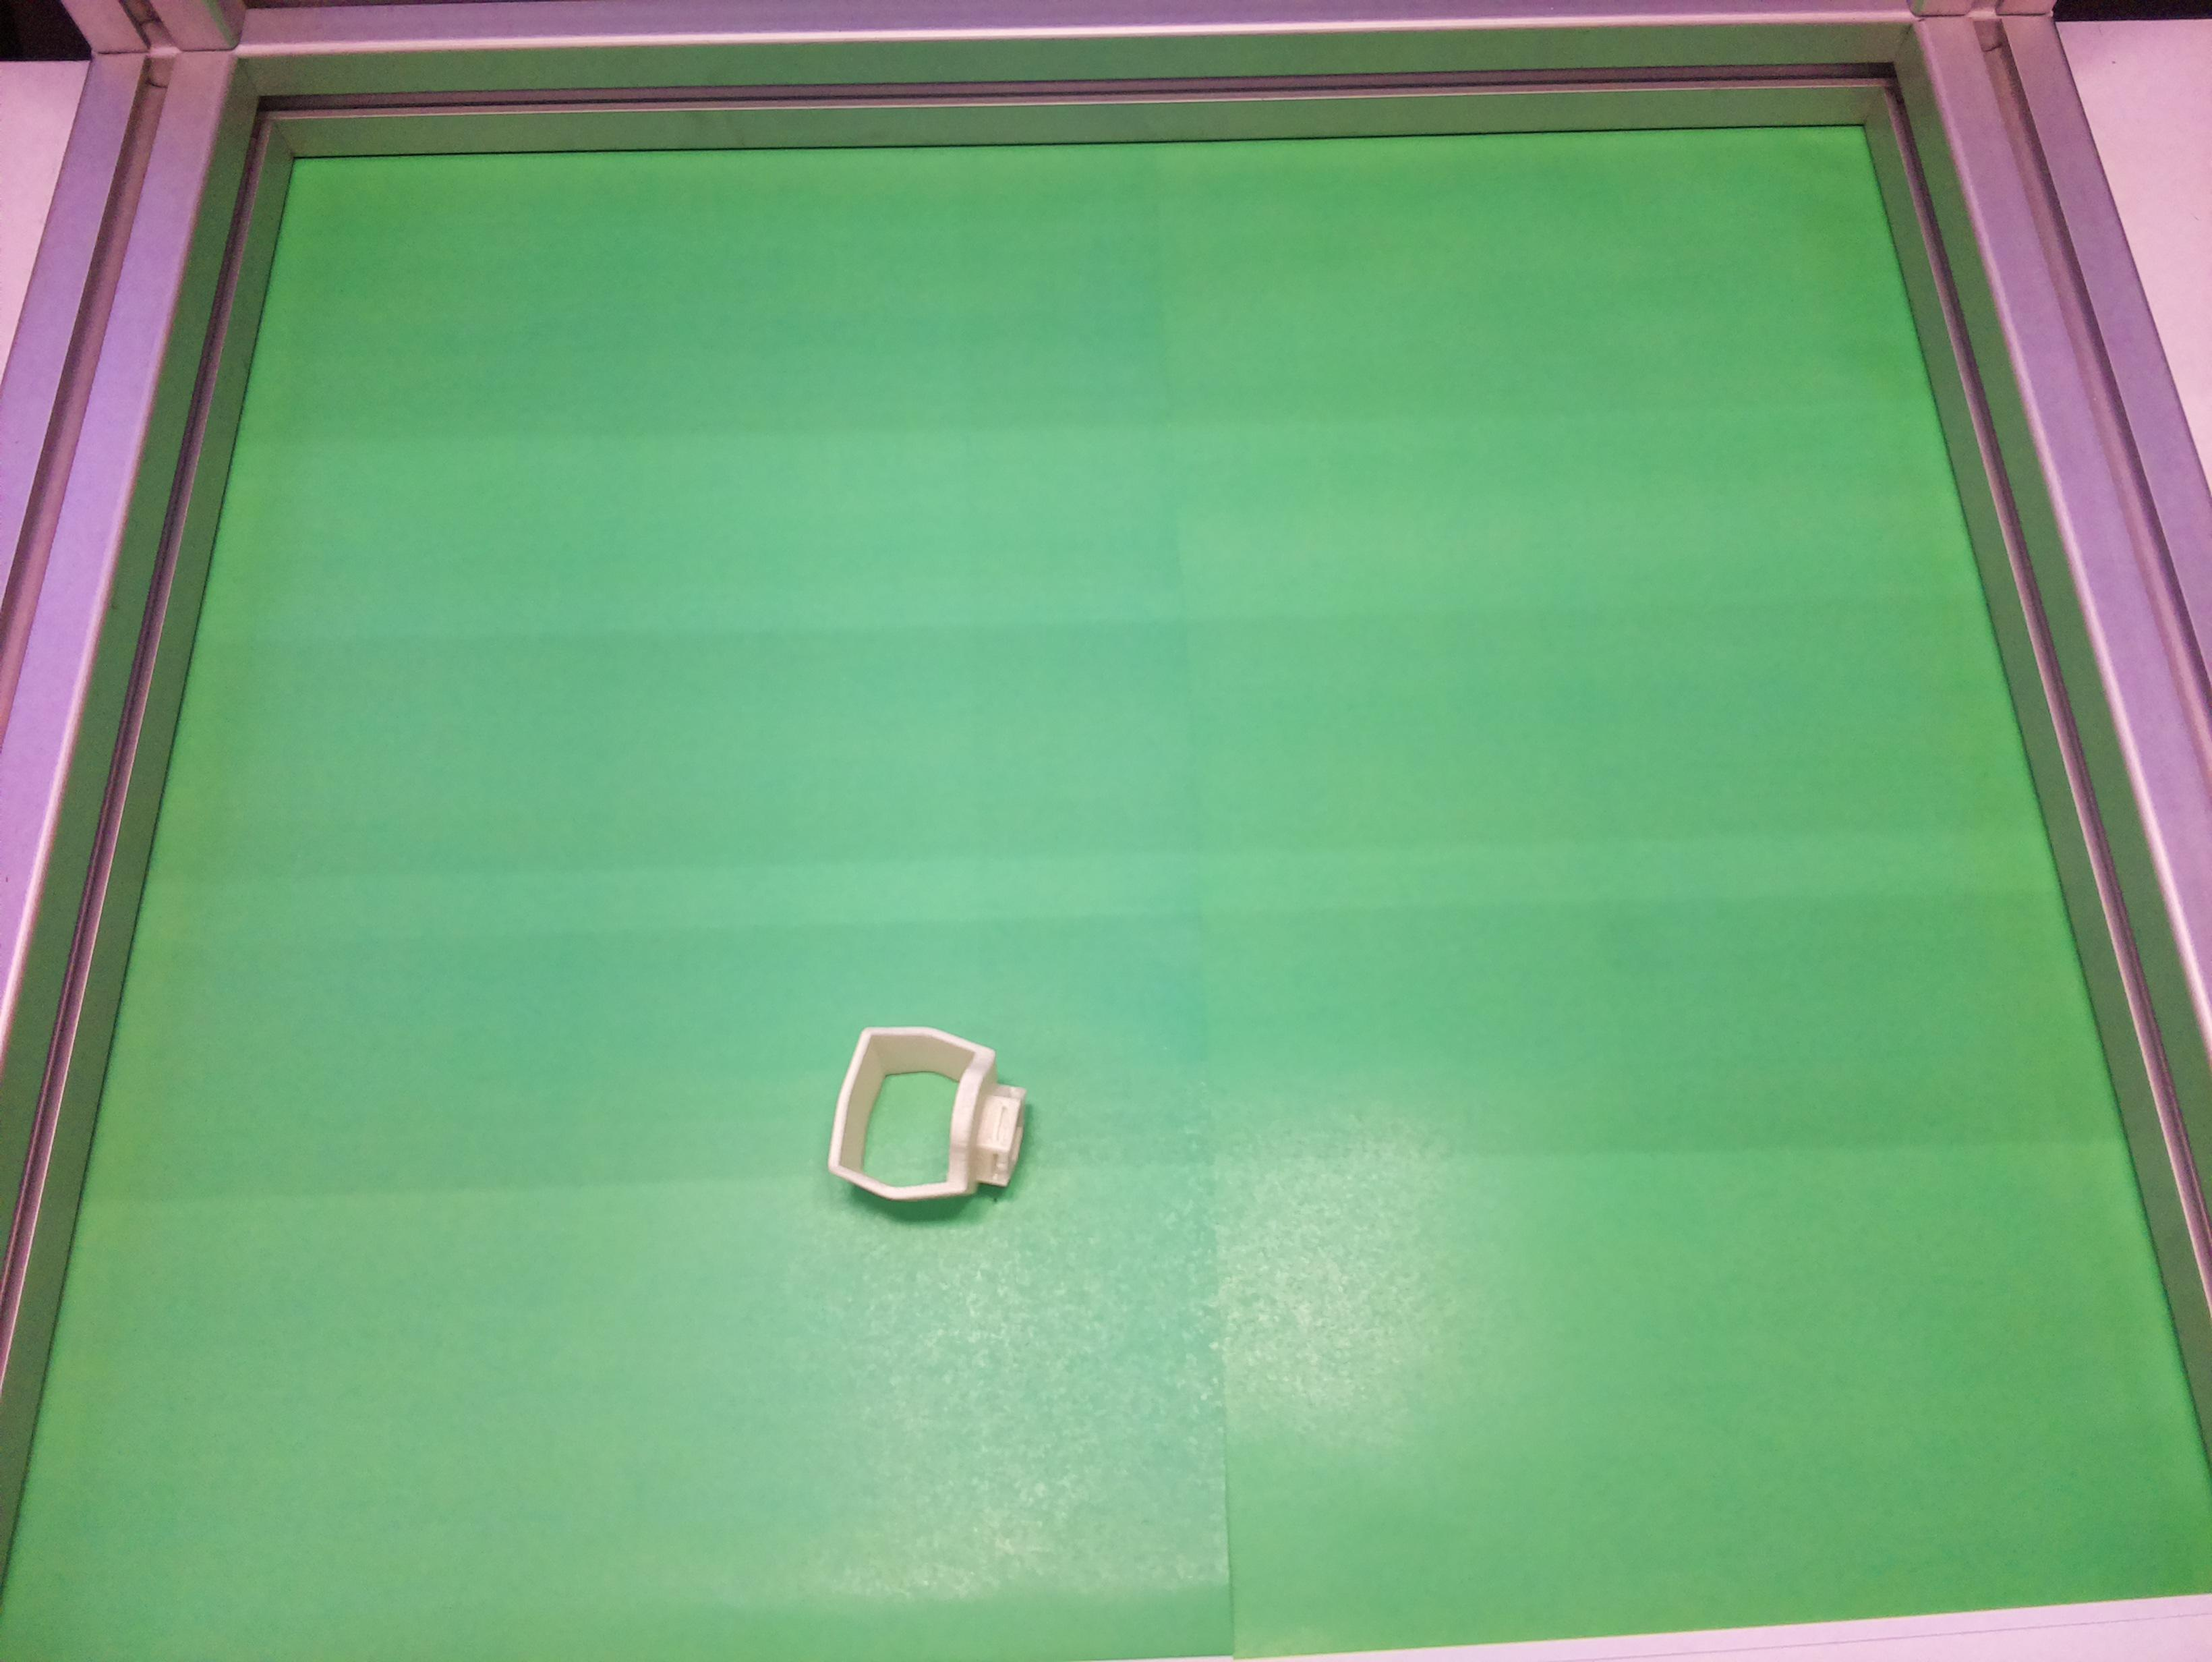tool_holder: (812, 1007, 1048, 1236)
